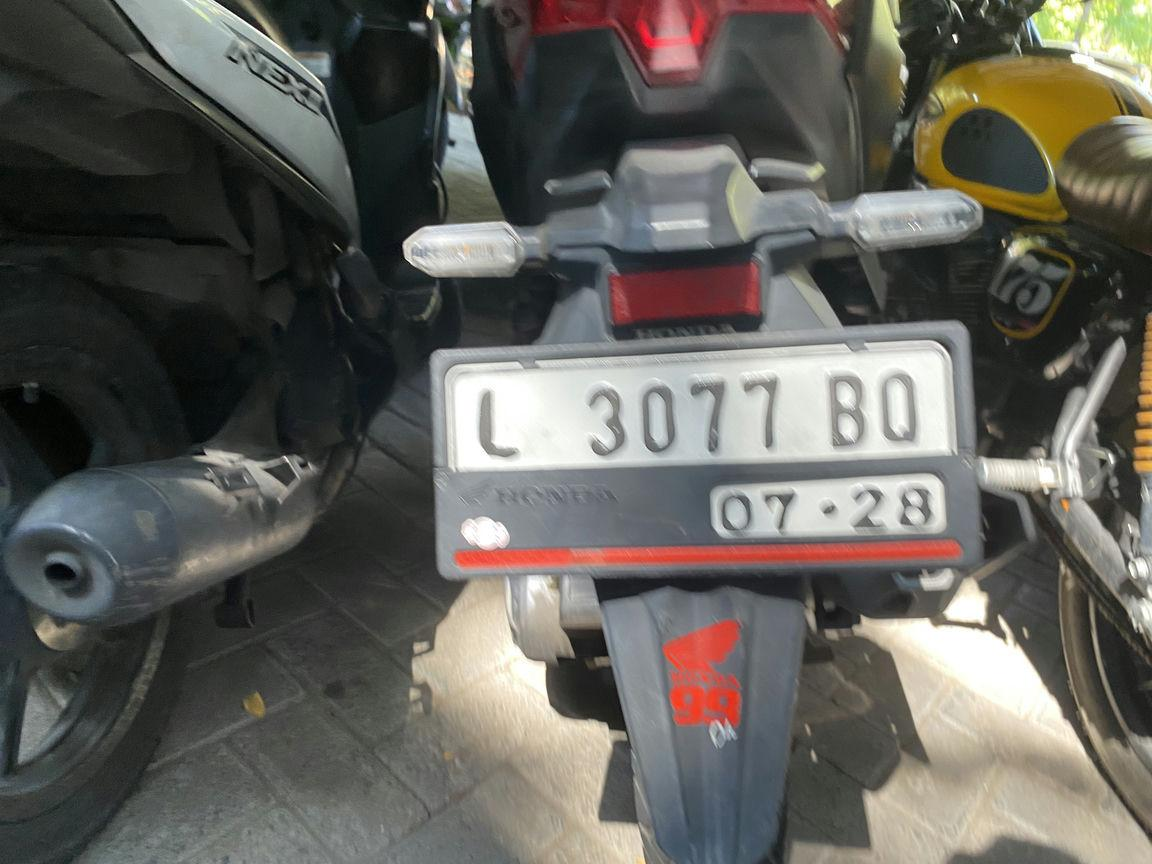plat: (432, 322, 981, 576)
